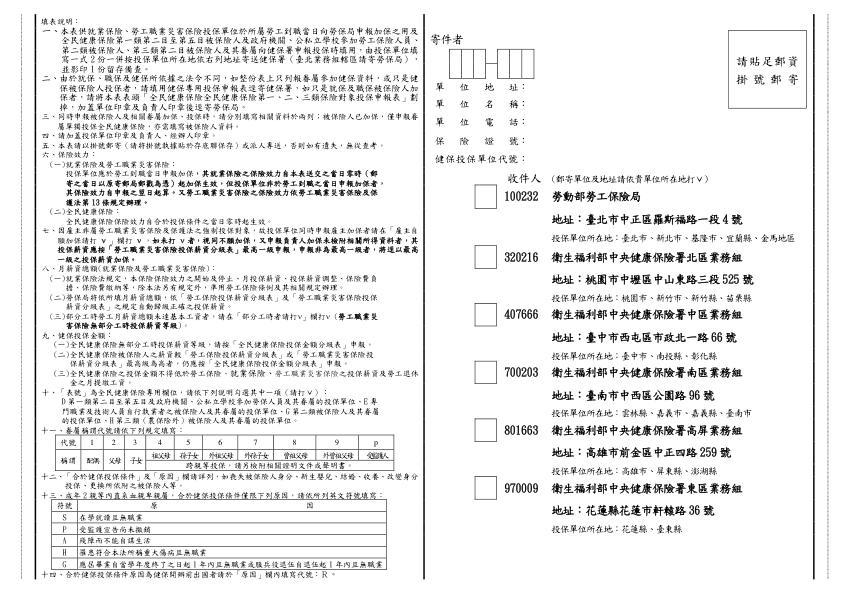check_box: (471, 471, 499, 504), (471, 241, 499, 271), (472, 357, 498, 389), (472, 181, 499, 211), (471, 414, 498, 444), (472, 300, 499, 329)
table: (49, 499, 391, 572), (53, 432, 398, 473), (445, 45, 536, 81)
text: (39, 151, 388, 226), (39, 263, 380, 330), (38, 331, 420, 388), (39, 17, 420, 73), (502, 186, 800, 245), (39, 111, 419, 151), (40, 226, 420, 265), (39, 73, 420, 111), (502, 247, 763, 302), (502, 478, 749, 536), (502, 305, 751, 362), (502, 420, 753, 476), (502, 364, 756, 418), (40, 389, 383, 425), (39, 471, 419, 500), (40, 569, 340, 581), (502, 171, 711, 185), (736, 51, 802, 93), (39, 425, 182, 434), (432, 133, 529, 146), (434, 81, 530, 94), (434, 97, 529, 110), (434, 153, 530, 165), (434, 115, 527, 127), (429, 30, 466, 45)
